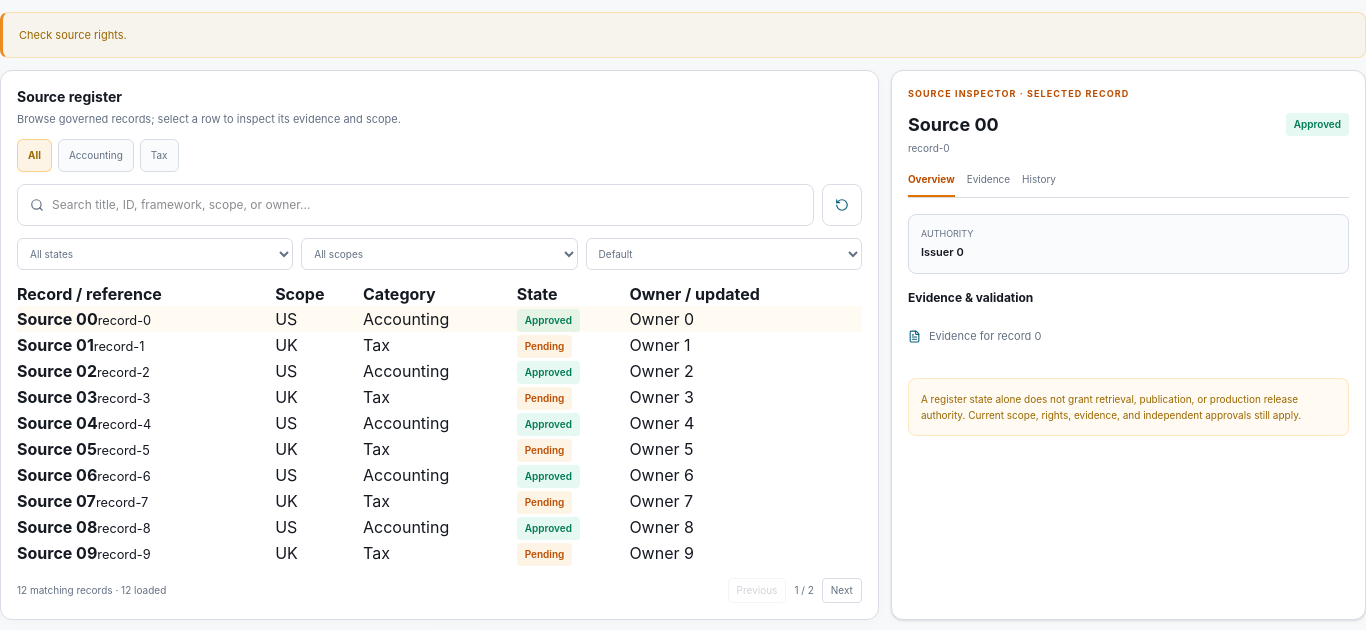
it: Governed register interactions › keeps the inspector on the visible page after selecting and paginating
The image size is (1366, 630).
Click the button "Source 03" at (57, 397), box x1=17 y1=385 x2=97 y2=409
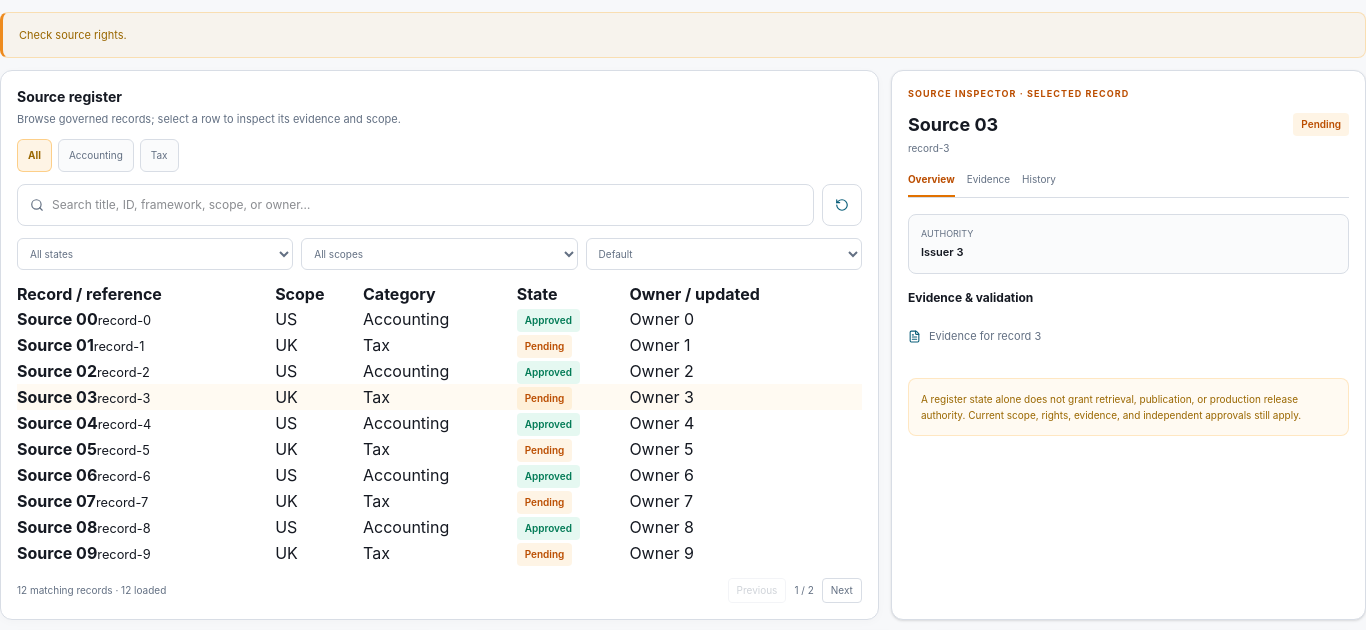
Click the button "Next" at (842, 590), box x1=822 y1=578 x2=862 y2=603
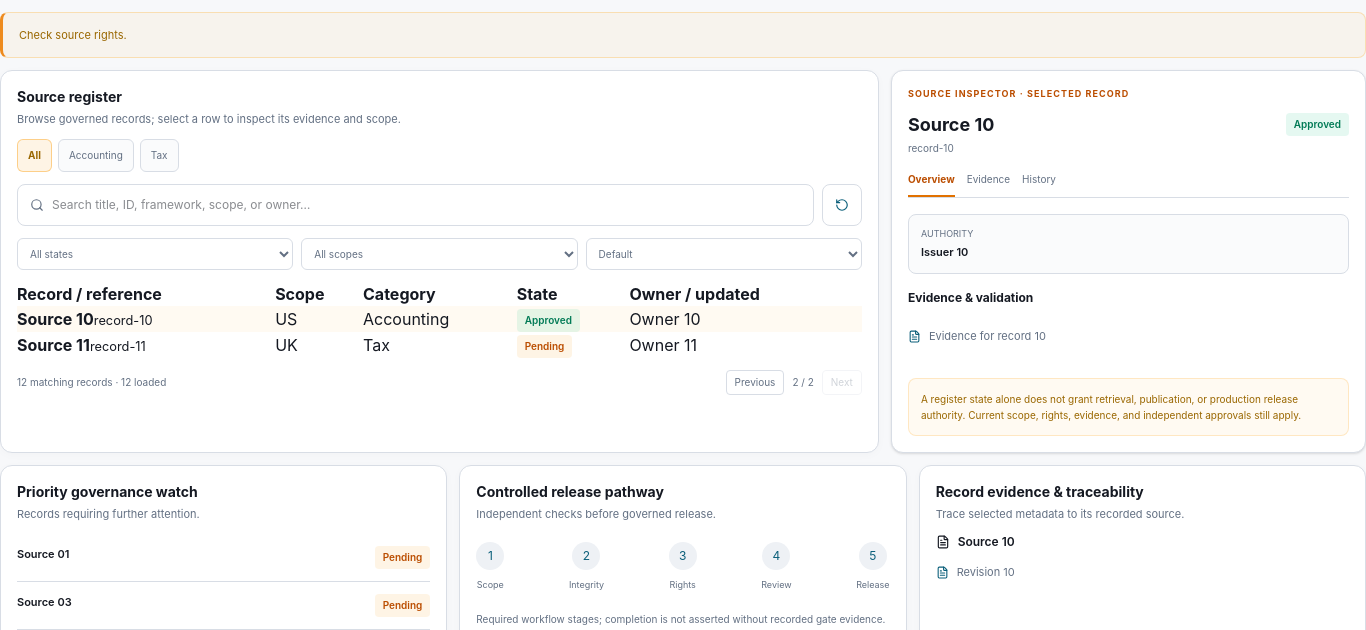
Result: the text "Issuer 10" is shown at x1=921 y1=245 x2=968 y2=259
Result: the text "Issuer 3" is gone
